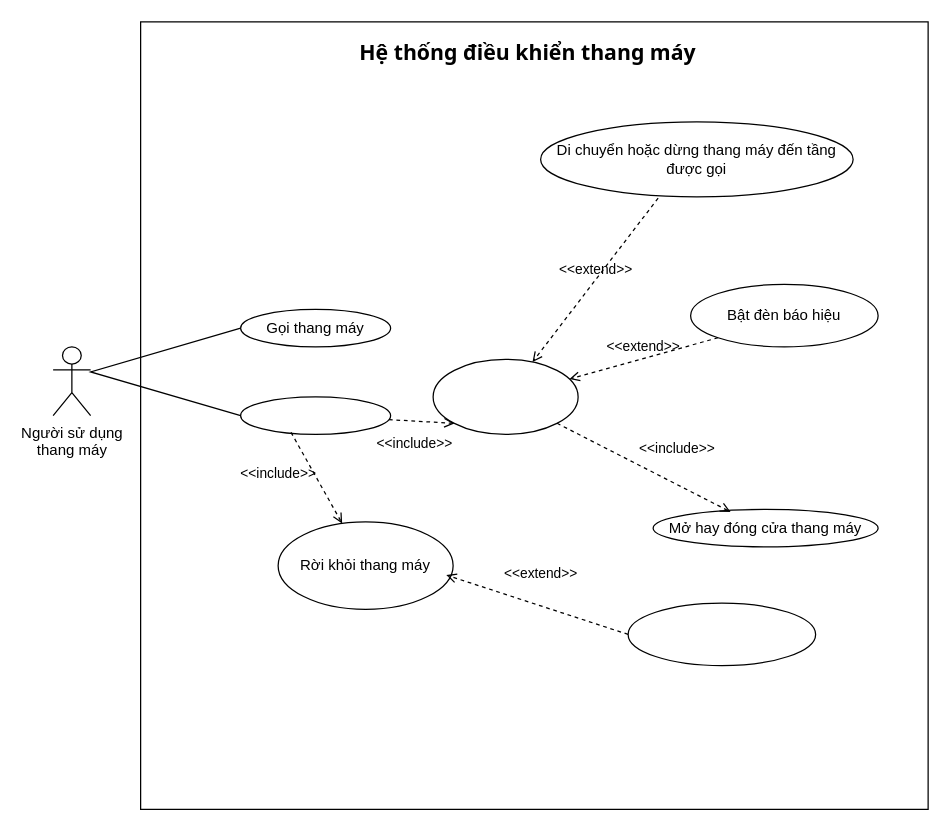
The diagram is 950 pixels wide and 831 high, and some of its shapes have lost their labels. The shapes that lost their labels are listed below. From the top down, each one's centre as x and y in pixels, then its label:
the point at 315,415: Chọn tầng
the point at 505,396: Nhấn nút
the point at 721,634: Tắt đèn chọn tầng
